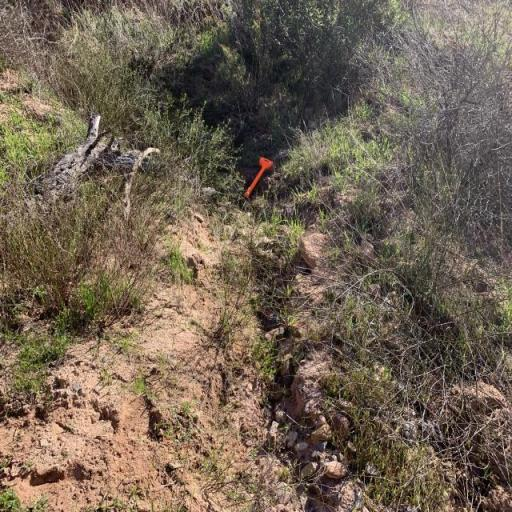mallet: (244, 157, 274, 199)
